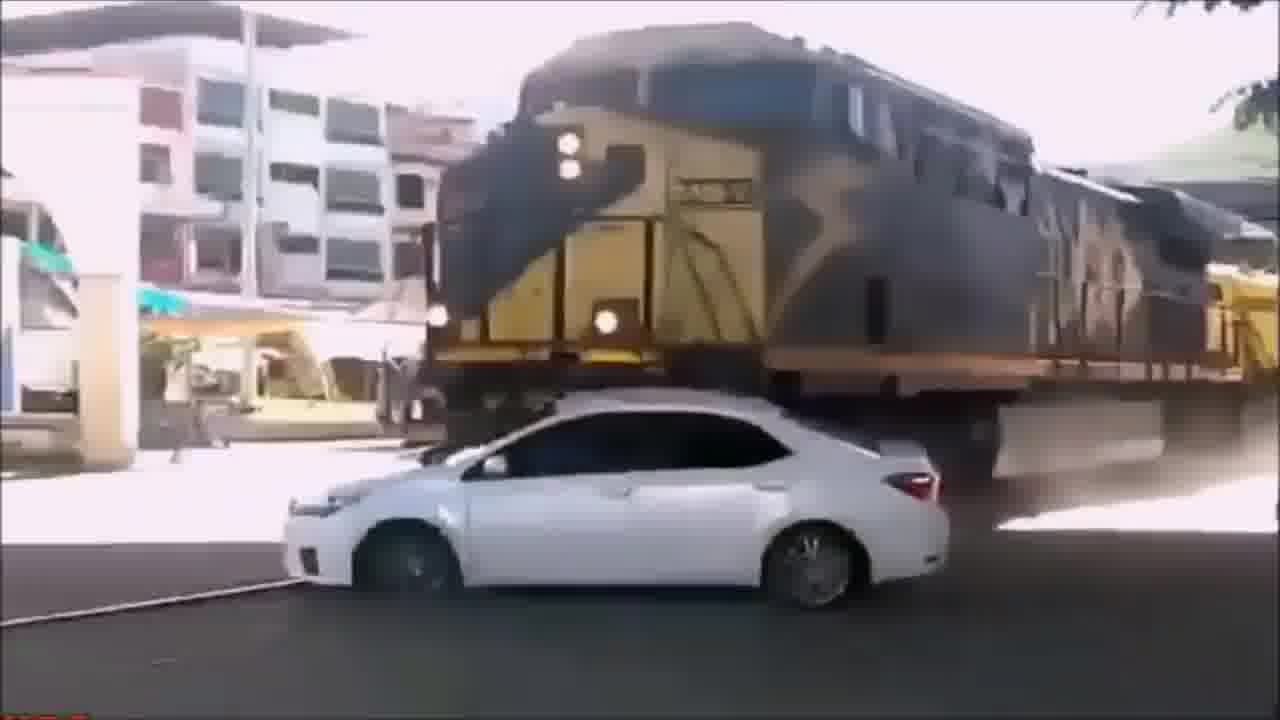crossing railway track: (273, 372, 981, 647)
